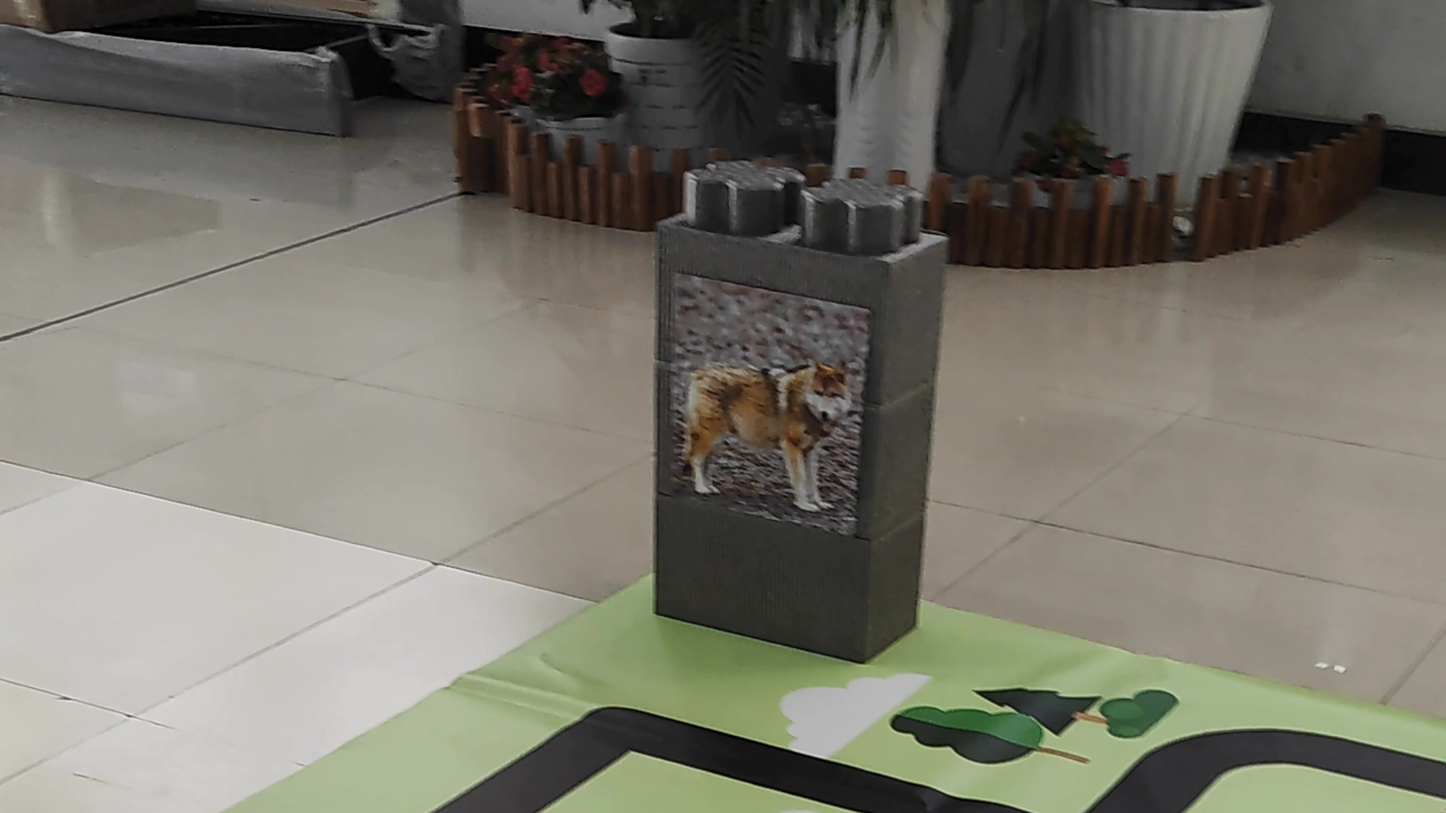wolf: (668, 290, 866, 507)
